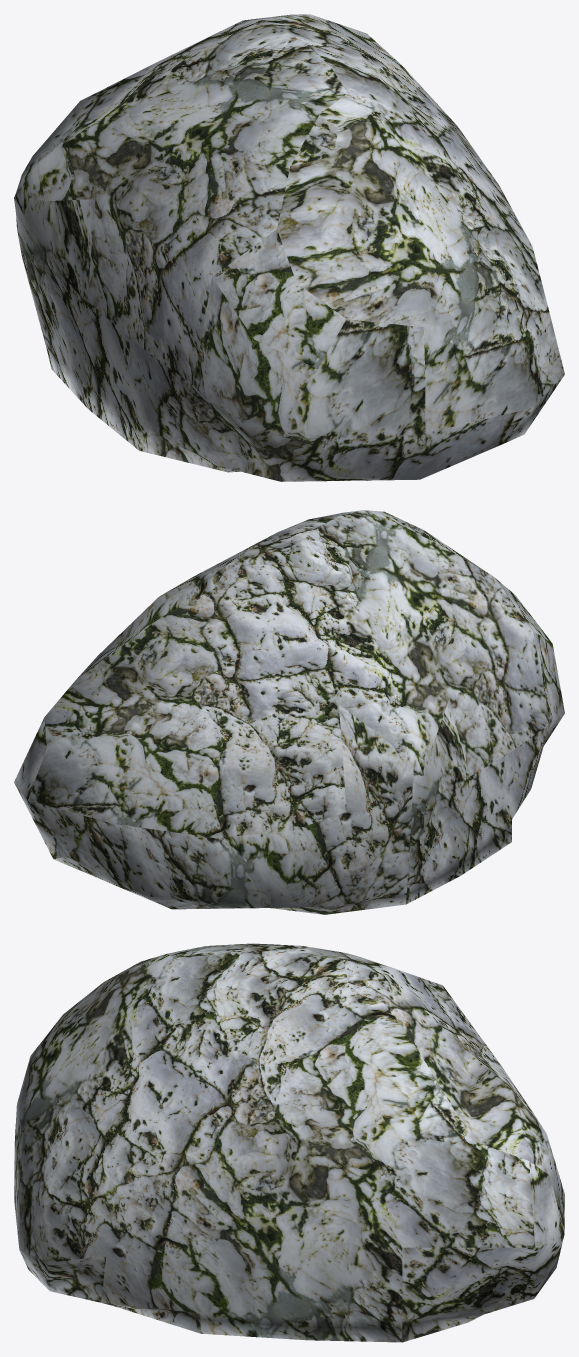
Rendered from Rock no cover 3.fbx.
The picture shows the model from 3 angles, top to bottom: view 1: azimuth 30°, elevation 25°; view 2: azimuth 150°, elevation 25°; view 3: azimuth 270°, elevation 25°; orthographic projection. The views are drawn at different scales.
Parts seen in each view (by area): view 1: Rock; view 2: Rock; view 3: Rock.
Boxes of the visible parts, left/top/right/bottom form: Rock: left=14, top=14, right=564, bottom=481; Rock: left=14, top=510, right=564, bottom=914; Rock: left=14, top=943, right=564, bottom=1342.
Size of the model in its own units: 2.01 by 1.64 by 2.64.
1 material, 1 textured.
